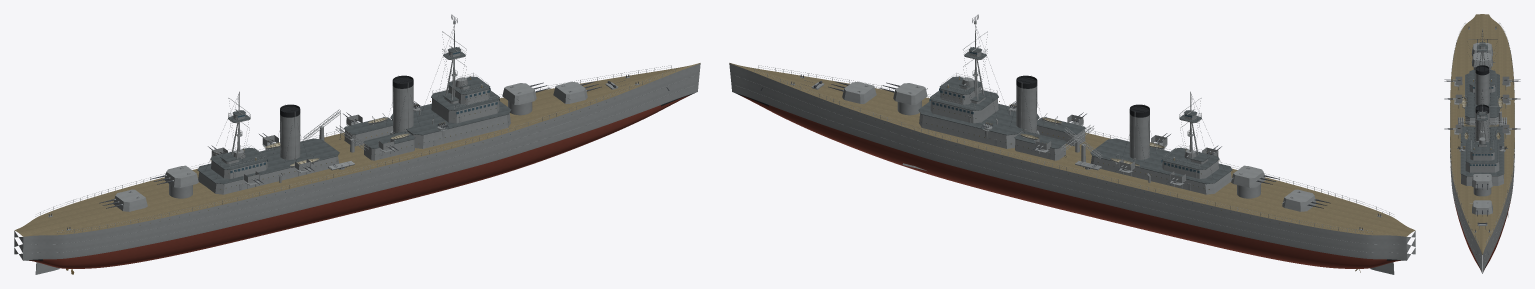
The model's file is demo-belfast.glb.
The picture shows the model from 3 angles, left to right: view 1: azimuth 30°, elevation 25°; view 2: azimuth 150°, elevation 25°; view 3: azimuth 270°, elevation 25°; orthographic projection. The views are drawn at different scales.
Parts seen in each view (by area): view 1: HMS Belfast, 1943 exterior interpretation; view 2: HMS Belfast, 1943 exterior interpretation; view 3: HMS Belfast, 1943 exterior interpretation.
Part boxes in pixels (x1,y1,x2,y2): HMS Belfast, 1943 exterior interpretation: [14, 14, 700, 274]; HMS Belfast, 1943 exterior interpretation: [729, 14, 1415, 274]; HMS Belfast, 1943 exterior interpretation: [1444, 14, 1520, 273].
Bounding box in the file's own units: 187 × 41.42 × 24.75.
Materials: 9 (8 with a texture image).
